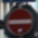No entry: (6, 6, 32, 32)
